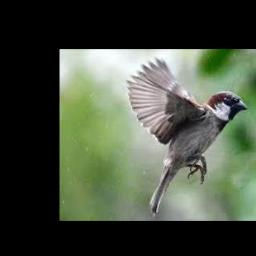Sparrow: (126, 57, 247, 215)
